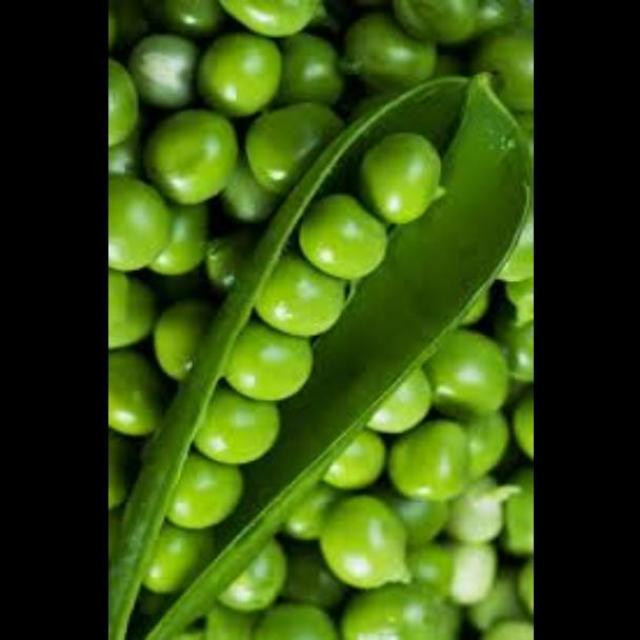peas: (108, 0, 534, 640), (244, 278, 367, 379), (344, 150, 458, 250), (200, 344, 320, 424), (130, 516, 232, 604), (297, 212, 393, 298), (164, 453, 254, 543), (203, 417, 290, 474)
